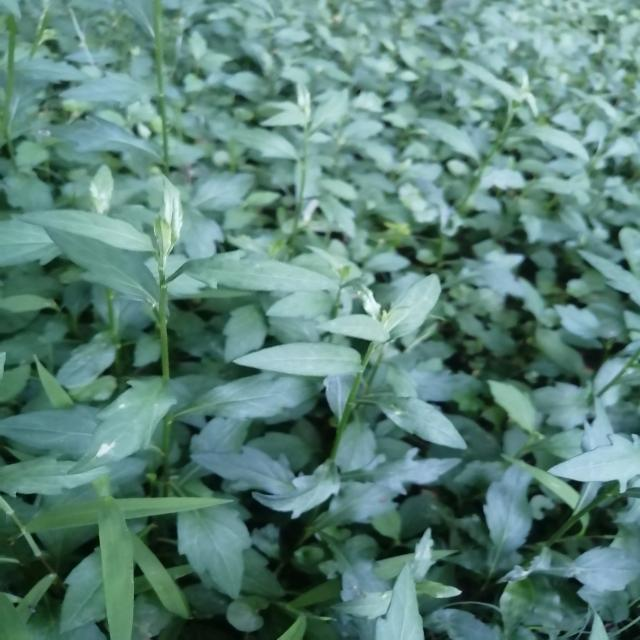Indian aster: (45, 184, 286, 467), (269, 274, 508, 494)
